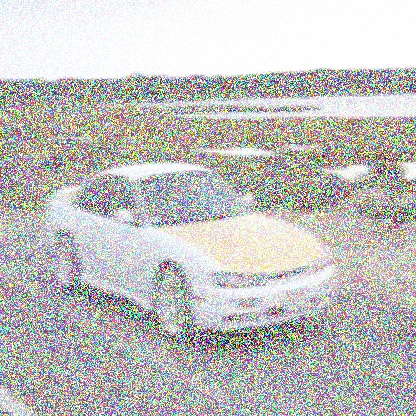Vehicle: (45, 164, 336, 344)
